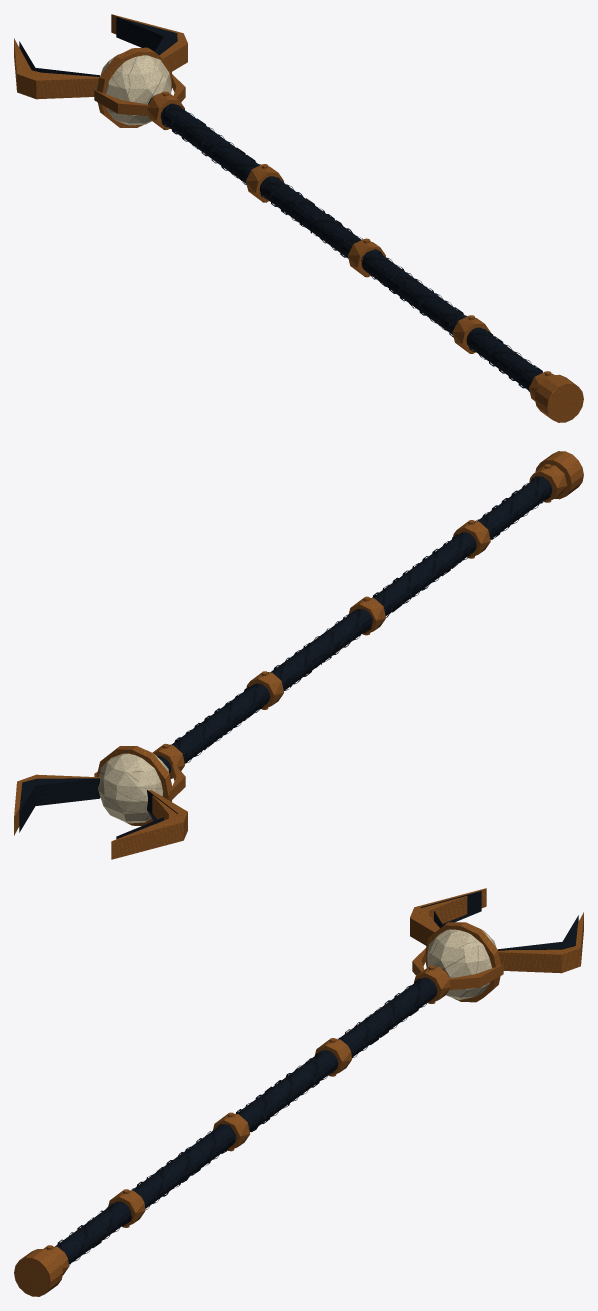
The model's file is storm-conductor-staff-ready-lod1.glb.
3 views of the same model, one above another, from view 1: azimuth 30°, elevation 25°; view 2: azimuth 150°, elevation 25°; view 3: azimuth 330°, elevation 25° (orthographic).
Visible parts, largest first — view 1: Dark woven shaft grip, Ivory conductor pearl, Copper fork tine shell, Staff flared pommel, Dark fork tine inset.001, Orb equatorial copper cradle, Copper fork tine shell.001, Conductor cradle horn, Copper staff segmented ferrule.003, Copper staff segmented ferrule.001, Copper staff segmented ferrule.004, Copper staff segmented ferrule.002; view 2: Dark woven shaft grip, Ivory conductor pearl, Copper fork tine shell, Dark fork tine inset.001, Orb equatorial copper cradle, Staff flared pommel, Copper staff segmented ferrule, Copper staff segmented ferrule.001, Copper staff segmented ferrule.003, Copper staff segmented ferrule.002, Copper fork tine shell.001; view 3: Dark woven shaft grip, Ivory conductor pearl, Copper fork tine shell.001, Staff flared pommel, Copper fork tine shell, Orb equatorial copper cradle, Conductor cradle horn.001, Copper staff segmented ferrule.003, Dark fork tine inset.001, Copper staff segmented ferrule.001, Copper staff segmented ferrule.002, Copper staff segmented ferrule.004 (+1 smaller).
Boxes of the visible parts, x1,y1,x2,y2 form: Dark woven shaft grip: [148, 94, 542, 390]; Ivory conductor pearl: [97, 54, 171, 125]; Copper fork tine shell: [14, 38, 99, 99]; Staff flared pommel: [535, 374, 583, 422]; Dark fork tine inset.001: [116, 17, 177, 55]; Orb equatorial copper cradle: [96, 47, 172, 127]; Copper fork tine shell.001: [111, 14, 187, 71]; Conductor cradle horn: [94, 90, 149, 116]; Copper staff segmented ferrule.003: [246, 164, 283, 201]; Copper staff segmented ferrule.001: [452, 315, 490, 352]; Copper staff segmented ferrule.004: [147, 91, 184, 128]; Copper staff segmented ferrule.002: [347, 239, 385, 275]; Dark woven shaft grip: [157, 477, 552, 773]; Ivory conductor pearl: [98, 750, 168, 823]; Copper fork tine shell: [111, 790, 187, 859]; Dark fork tine inset.001: [19, 778, 99, 832]; Orb equatorial copper cradle: [96, 746, 172, 825]; Staff flared pommel: [535, 451, 583, 499]; Copper staff segmented ferrule: [529, 465, 567, 502]; Copper staff segmented ferrule.001: [453, 521, 490, 558]; Copper staff segmented ferrule.003: [246, 672, 283, 709]; Copper staff segmented ferrule.002: [349, 598, 385, 634]; Copper fork tine shell.001: [14, 774, 100, 835]; Dark woven shaft grip: [55, 969, 449, 1264]; Ivory conductor pearl: [427, 929, 496, 1000]; Copper fork tine shell.001: [498, 912, 583, 973]; Staff flared pommel: [14, 1249, 62, 1296]; Copper fork tine shell: [410, 888, 486, 945]; Orb equatorial copper cradle: [425, 922, 500, 1002]; Conductor cradle horn.001: [449, 964, 503, 990]; Copper staff segmented ferrule.003: [314, 1039, 351, 1076]; Dark fork tine inset.001: [498, 915, 578, 950]; Copper staff segmented ferrule.001: [108, 1190, 145, 1227]; Copper staff segmented ferrule.002: [212, 1114, 249, 1150]; Copper staff segmented ferrule.004: [414, 966, 450, 1003].
Bounding box in the file's own units: 0.34 × 0.148 × 1.78.
Materials: 3 (3 with a texture image).
